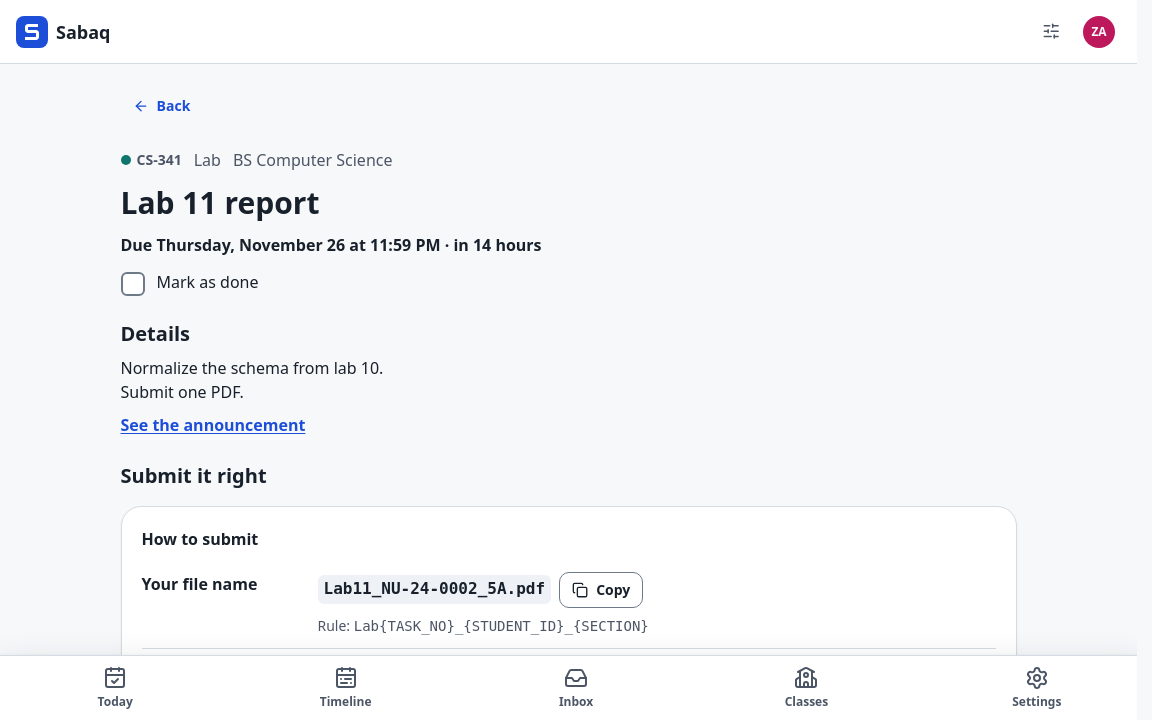
Test: the task page › marks the task done from its page
The width and height of the screenshot is (1152, 720).
Click the checkbox named "Mark as done". click: [132, 284]
box: [120,272,144,296]
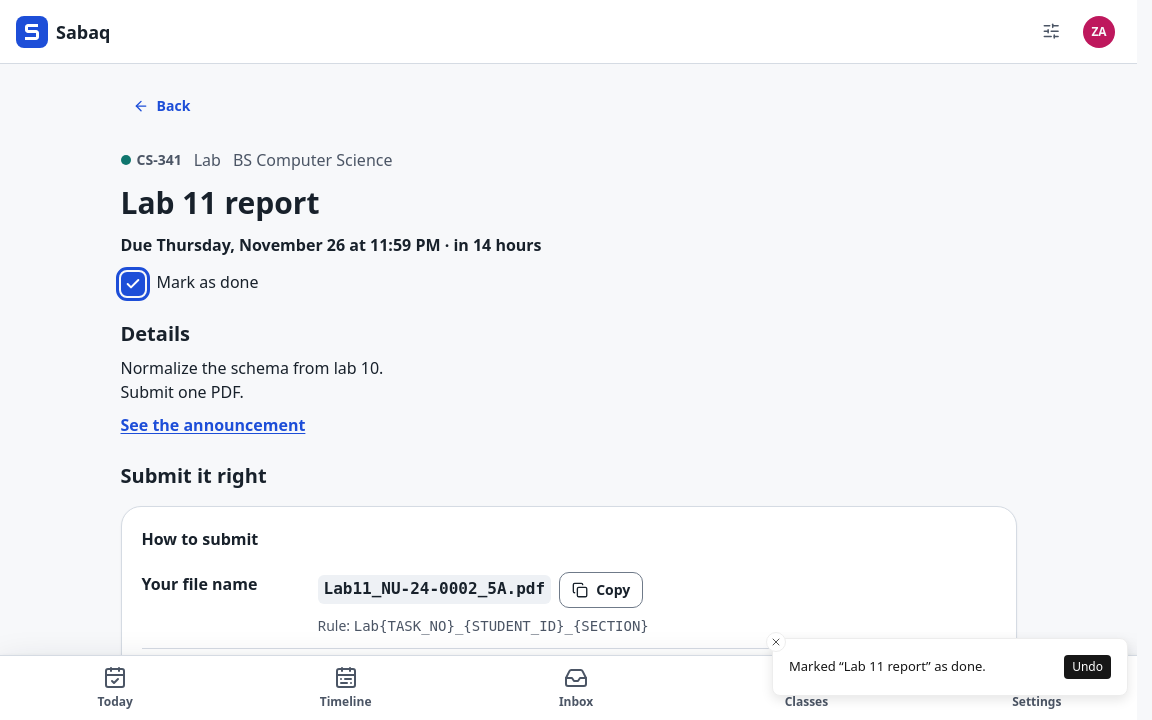
Result: the checkbox named "Mark as done" is checked at [120,272,144,296]
